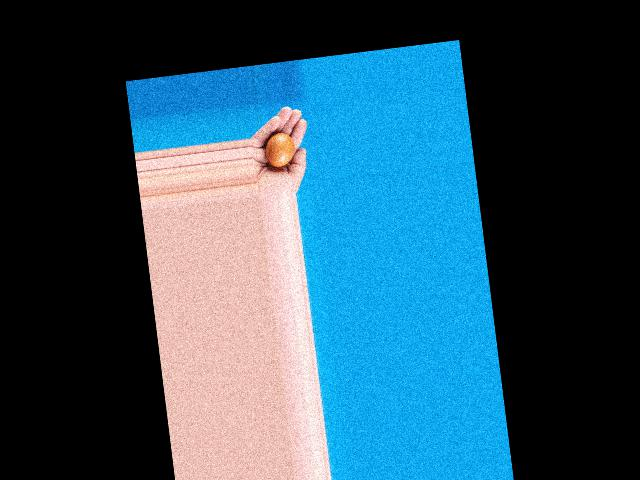egg: (264, 130, 296, 168)
